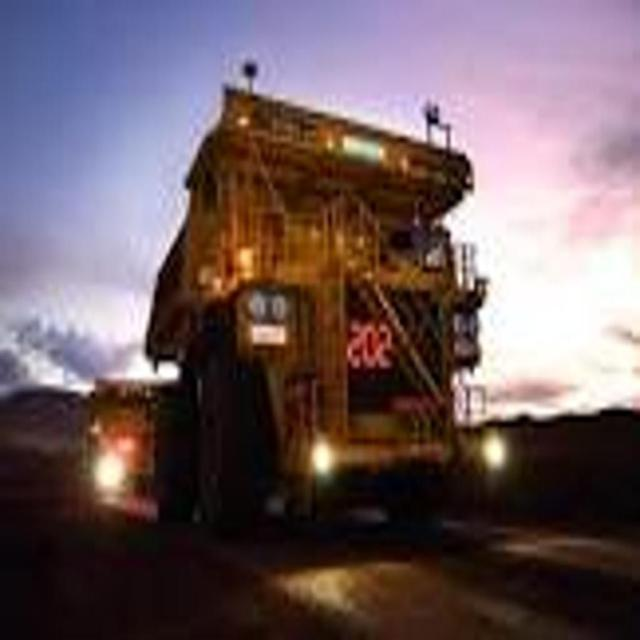dump_truck: (147, 55, 498, 544)
